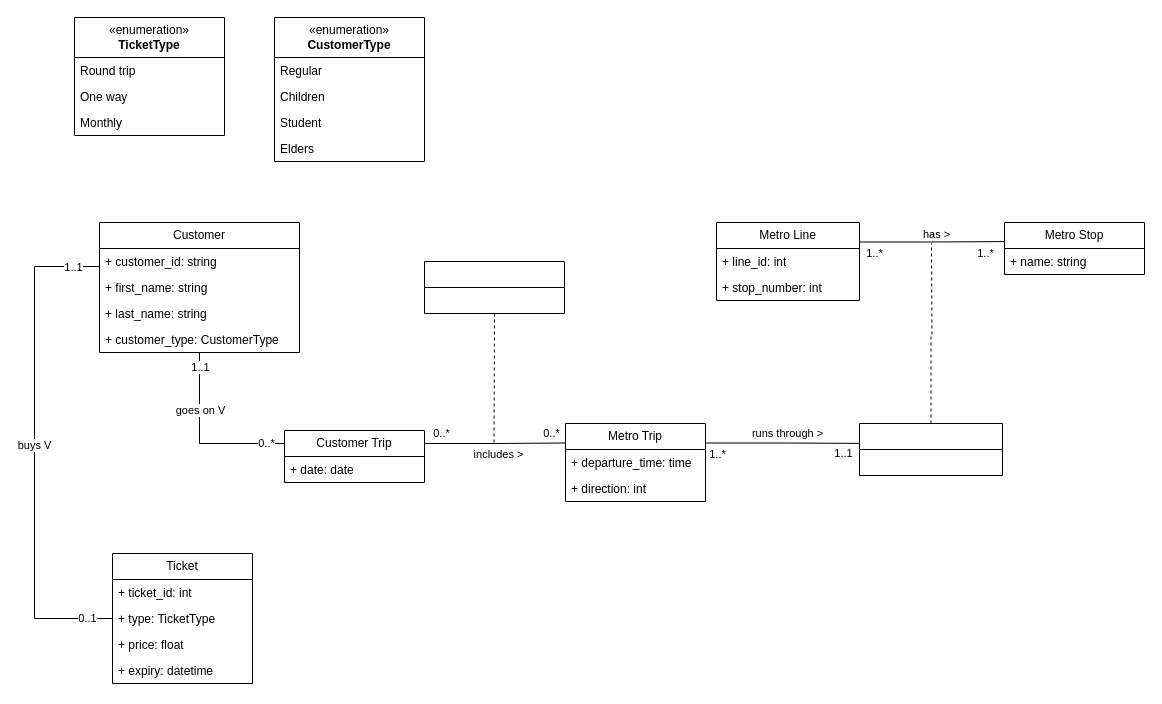
Some shapes in this 1162 by 704 pixel diagram are drawn without their labels. Here are the shapes that lost their labels. From the top down, the centre of each, then its label:
At (494,287): "Trip Infomation".
At (930,449): "Stop List".
